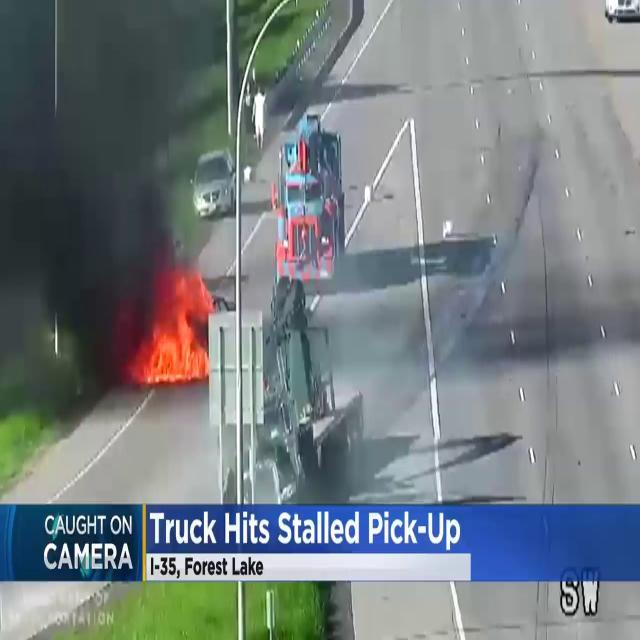Fire: (138, 273, 214, 388)
Smoke: (0, 1, 202, 374), (447, 56, 599, 349), (302, 244, 480, 411)
